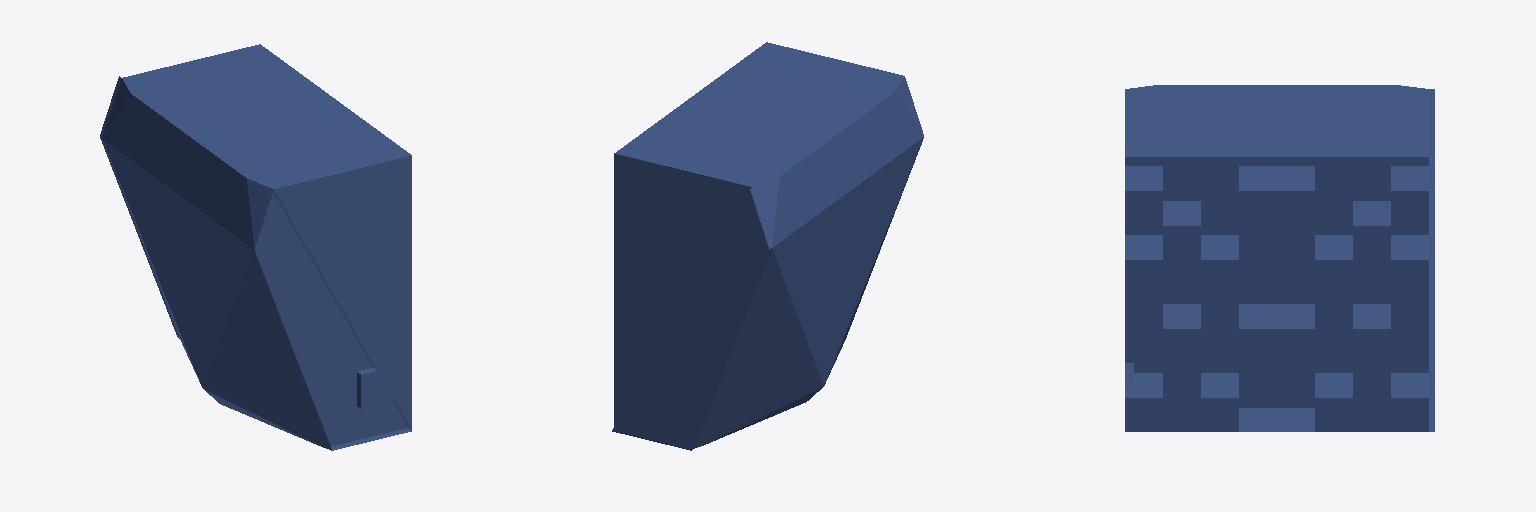
The model's file is monument_1.obj.
3 renders of one model, left to right at view 1: azimuth 30°, elevation 25°; view 2: azimuth 150°, elevation 25°; view 3: azimuth 270°, elevation 25°, orthographic.
Parts seen in each view (by area): view 1: Cube.001; view 2: Cube.001; view 3: Cube.001.
Boxes of the visible parts, <box> form: Cube.001: <box>100,44,411,450</box>; Cube.001: <box>612,42,923,450</box>; Cube.001: <box>1125,85,1434,431</box>.
Size of the model in its own units: 1.78 by 2.97 by 3.02.